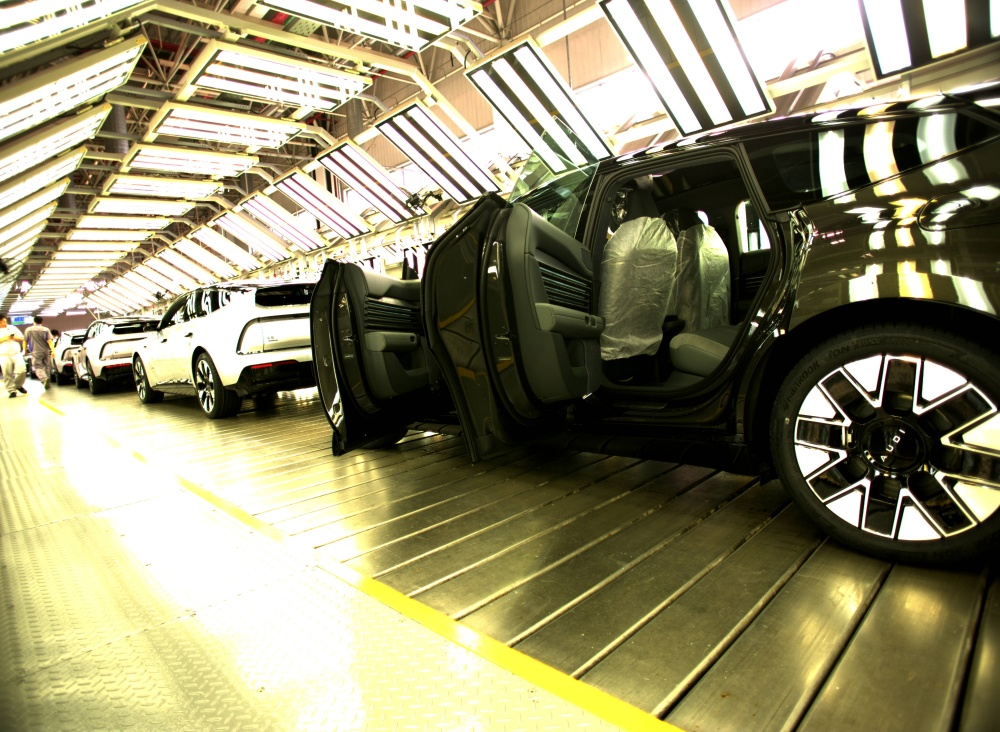armrest_color: (533, 301, 605, 335), (365, 331, 420, 349)
panel_color: (535, 258, 597, 313), (361, 291, 416, 328)
